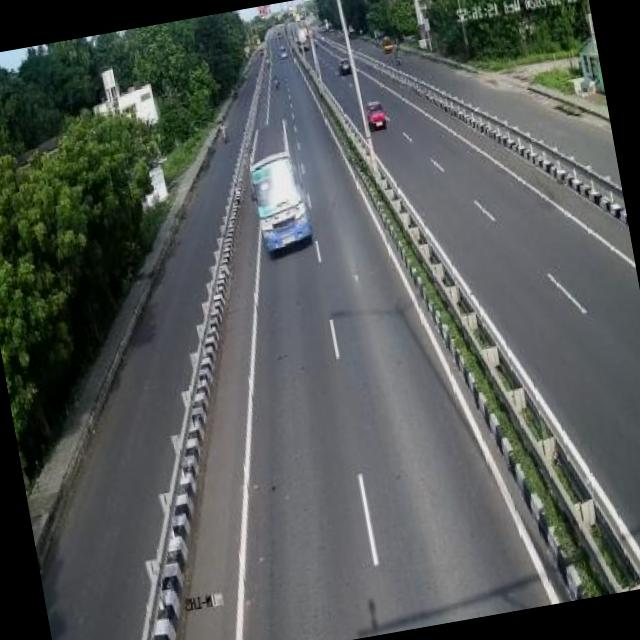car: (360, 95, 390, 138)
